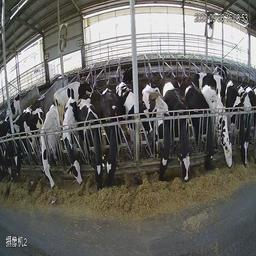cow: (113, 68, 153, 185), (221, 62, 252, 186), (164, 74, 195, 197), (185, 73, 219, 178), (204, 79, 238, 180), (78, 89, 106, 210), (99, 75, 127, 192), (143, 74, 170, 188), (59, 86, 84, 197), (37, 97, 60, 203), (15, 104, 45, 185), (5, 98, 23, 196), (54, 75, 94, 98)
